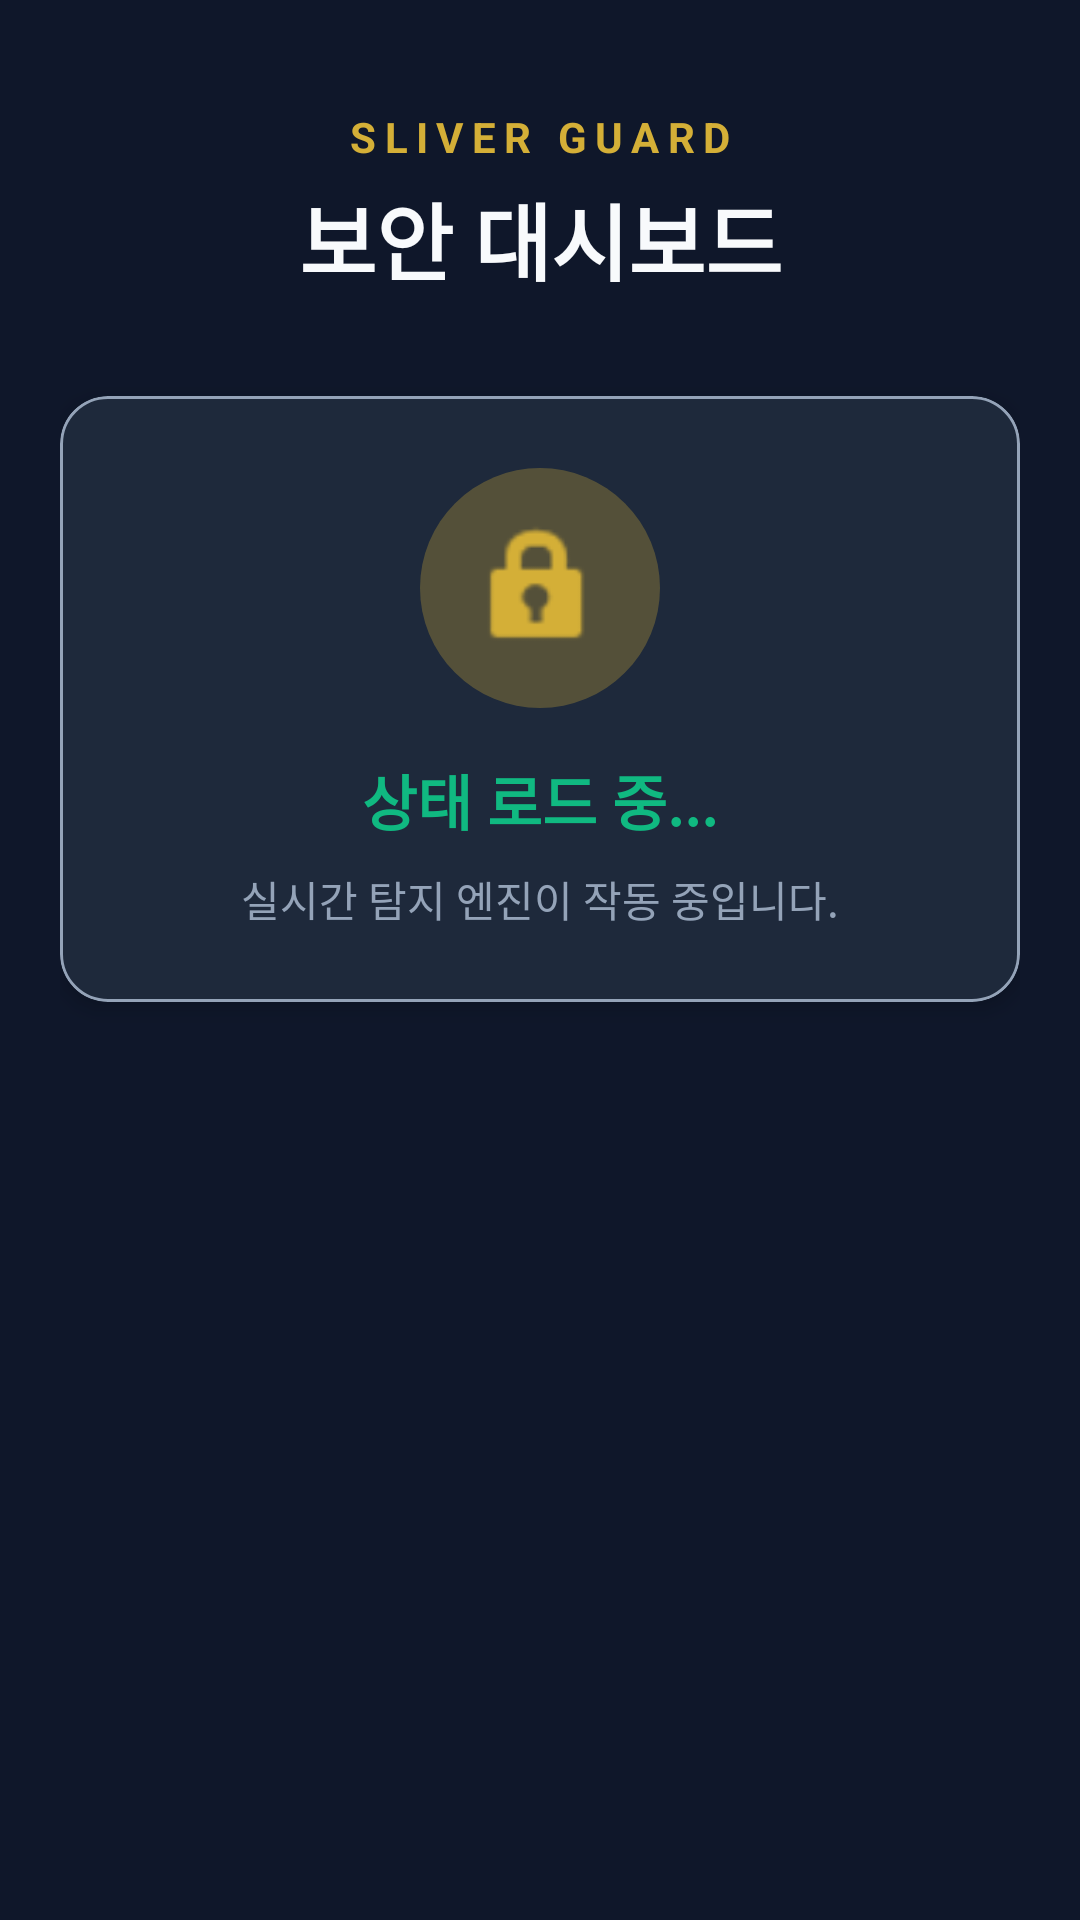

Where to tap for icons on this 1080*1920 app screen, as (x=x, y=y):
lock idle: (x=536, y=583)
